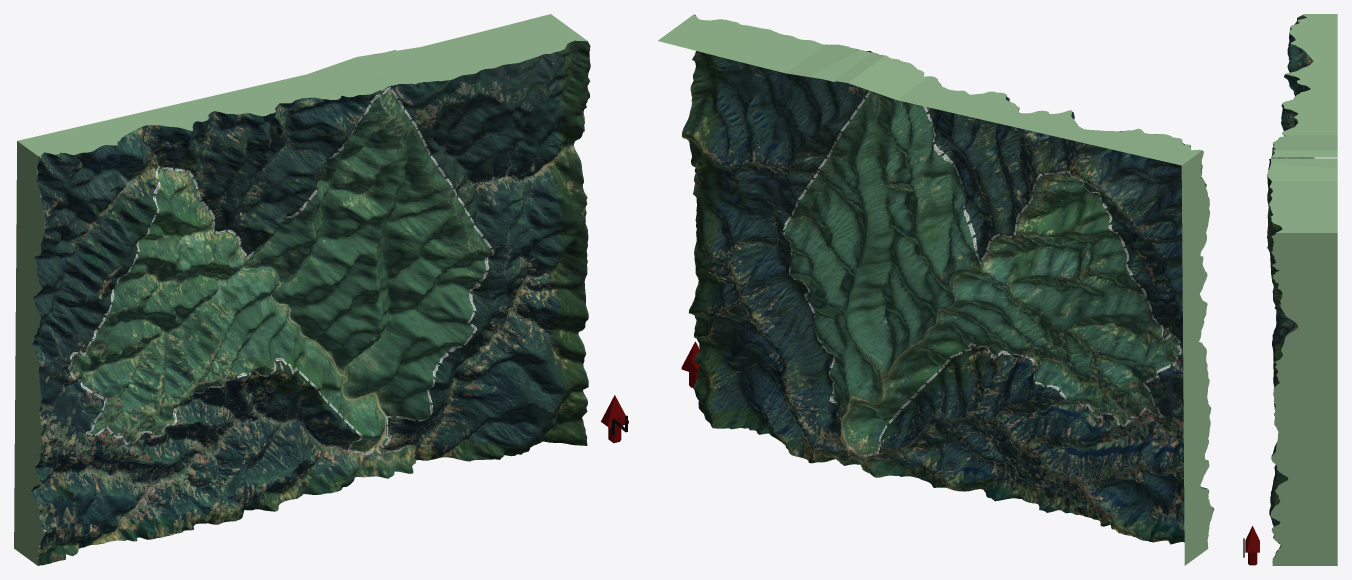
The model's file is modelov2b.glb.
3 renders of one model, left to right at view 1: azimuth 30°, elevation 25°; view 2: azimuth 150°, elevation 25°; view 3: azimuth 270°, elevation 25°, orthographic. The views are drawn at different scales.
Visible parts, largest first — view 1: srtm exagero 4, side; view 2: srtm exagero 4, side; view 3: side, srtm exagero 4, Cube.
Boxes of the visible parts, left/top/right/bottom form: srtm exagero 4: left=31, top=40, right=590, bottom=565; side: left=14, top=14, right=587, bottom=565; srtm exagero 4: left=682, top=15, right=1213, bottom=544; side: left=658, top=14, right=1214, bottom=565; side: left=1267, top=14, right=1337, bottom=565; srtm exagero 4: left=1267, top=15, right=1314, bottom=562; Cube: left=1245, top=526, right=1259, bottom=565.
Bounding box in the file's own units: 32.1 × 22.33 × 5.65.
5 materials, 1 textured.
